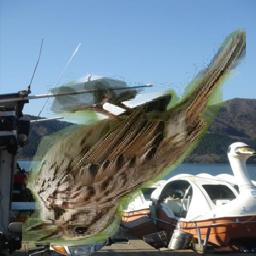Sparrow: (22, 28, 246, 246)
